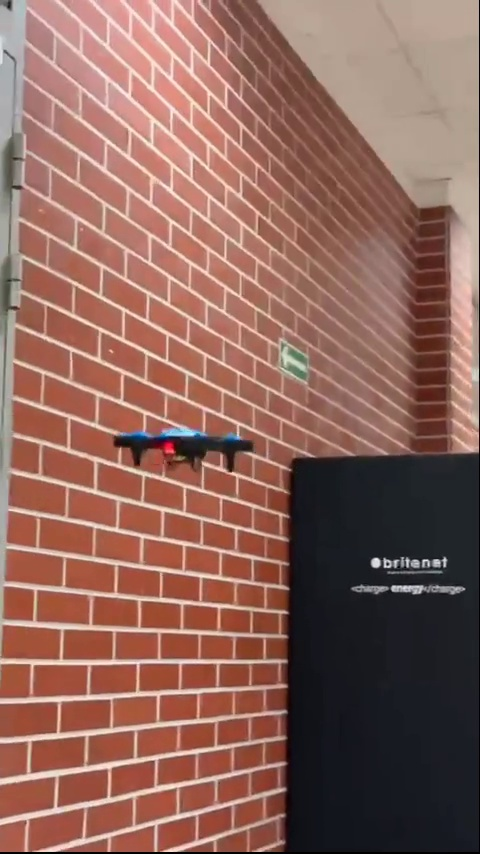drone: (112, 434, 250, 480)
